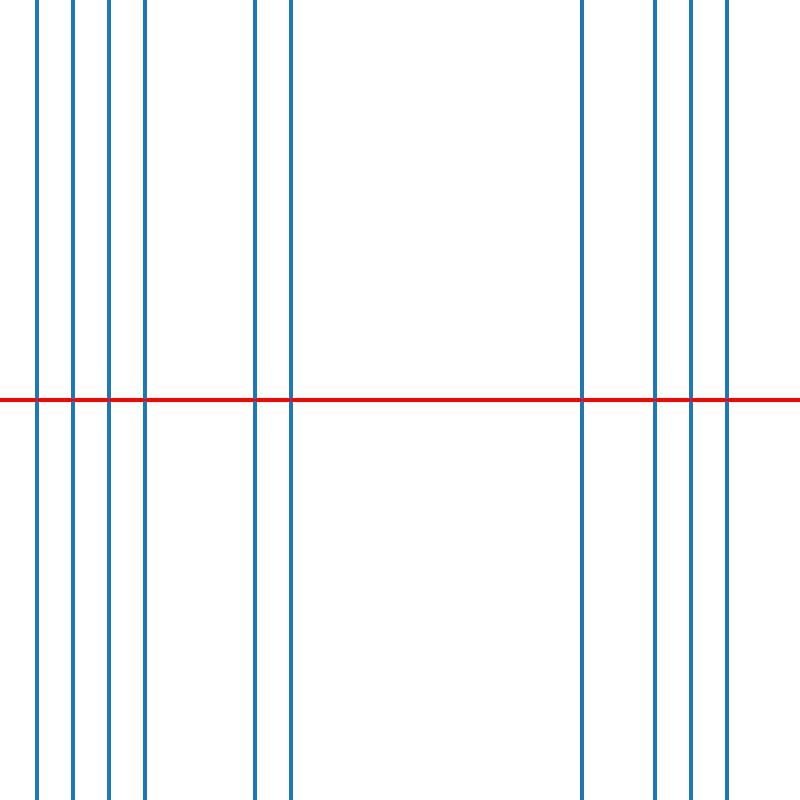root: (32, 396, 40, 404), (141, 396, 149, 404), (250, 396, 258, 404), (650, 396, 658, 404), (105, 396, 112, 404), (723, 396, 730, 404), (578, 396, 585, 404), (687, 396, 694, 404), (287, 396, 294, 404), (69, 396, 76, 404)
